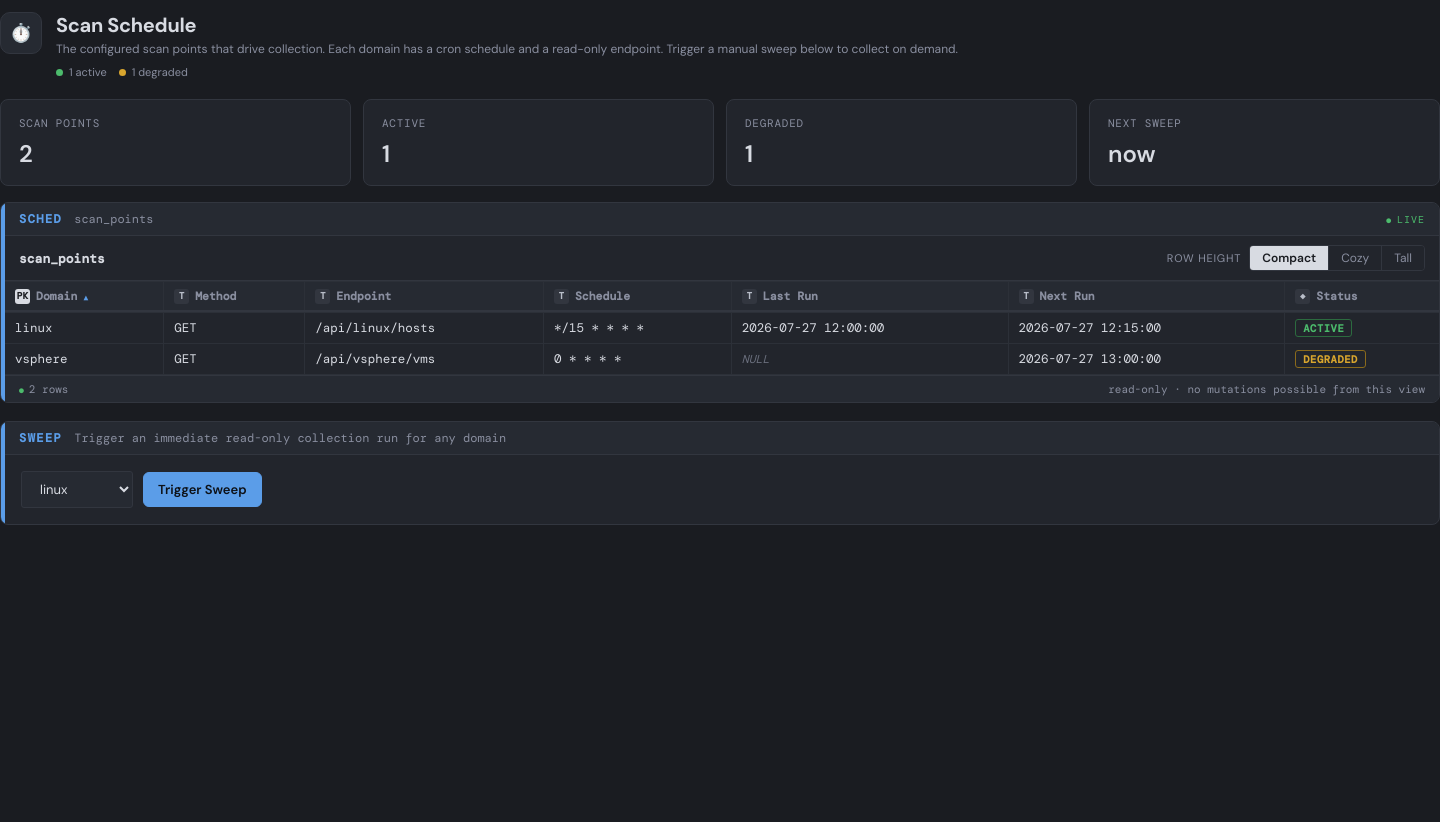
Scenario: ScanSchedule page — Phase 3 design-system rebuild › Manual Sweep result message box (outcome-accuracy regression guard) › shows a red/error message when the sweep request fails outright
Expected: the text "linux" is shown, [5,312,164,344]
Click the button "Trigger Sweep". click: (202, 490)
box: [143,472,262,507]
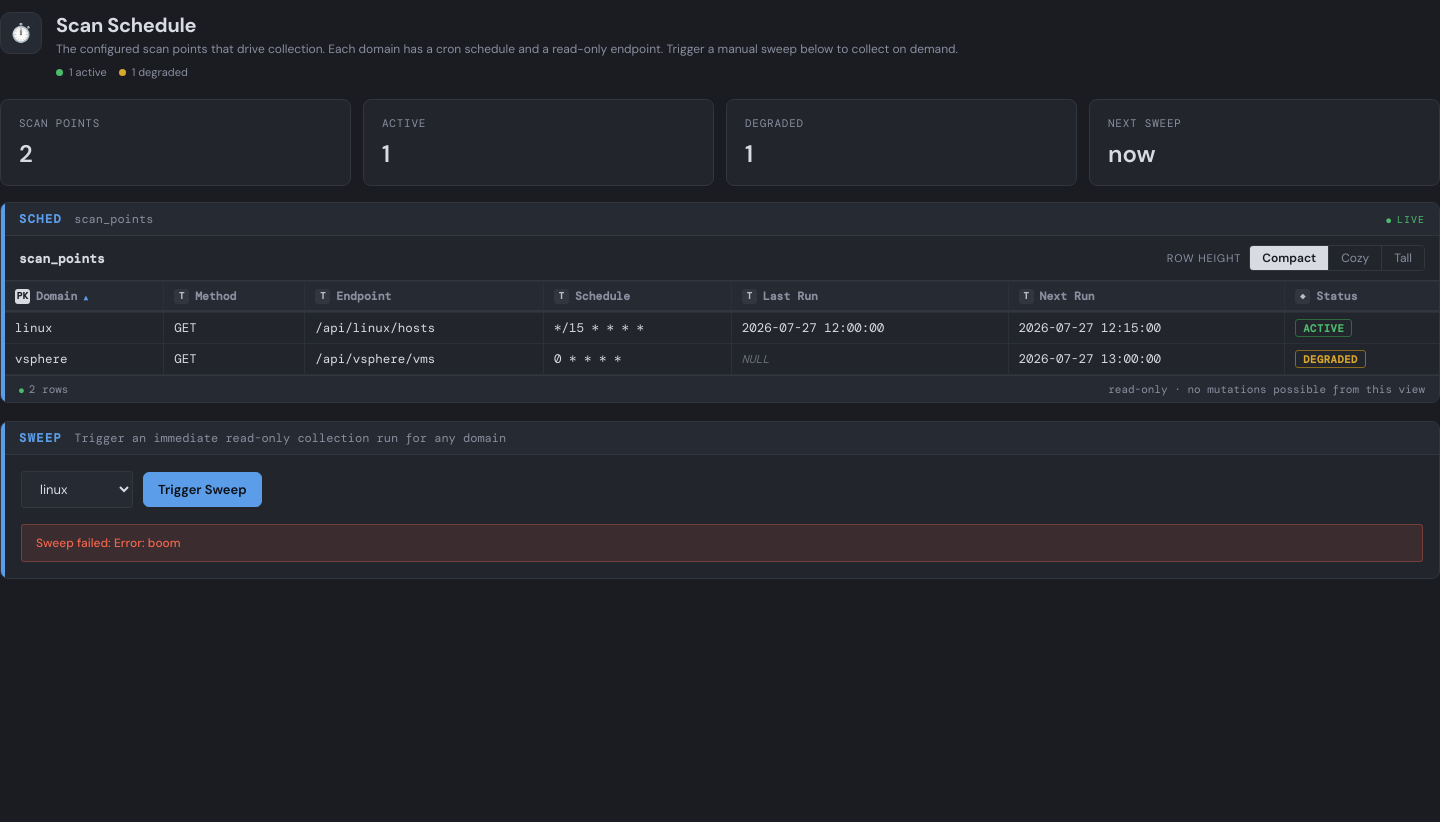
Expected: the text "Sweep failed: Error: boom" is shown, [21,524,1423,562]
